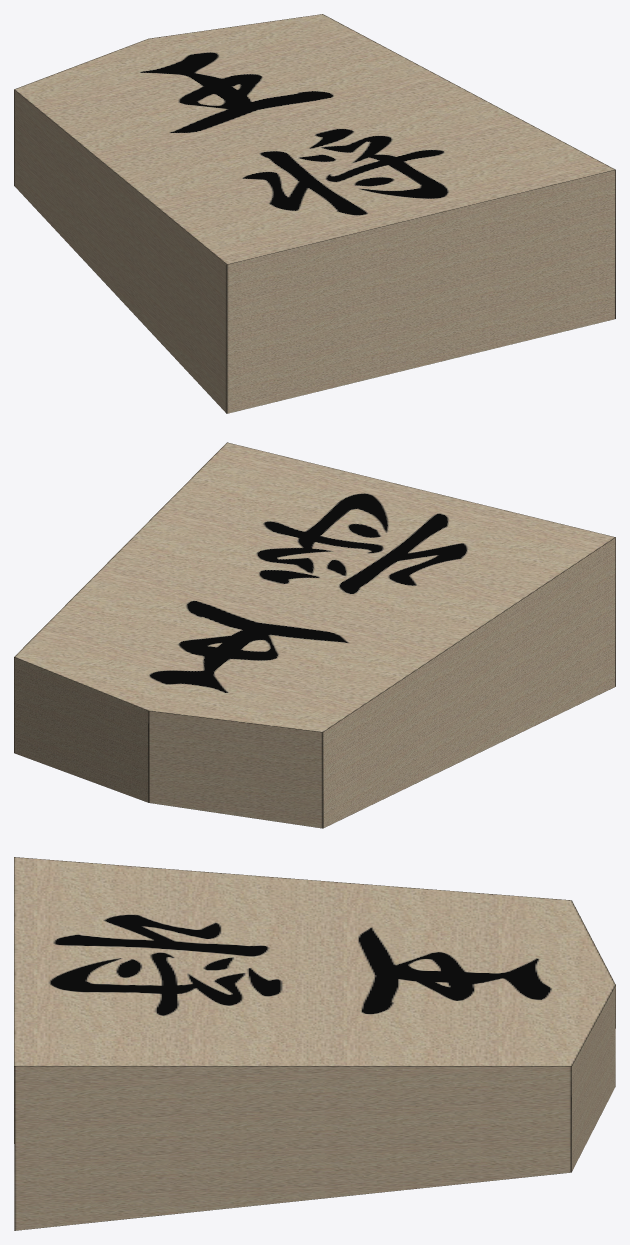
The model's file is 01_Osho.fbx.
The picture shows the model from 3 angles, top to bottom: view 1: azimuth 30°, elevation 25°; view 2: azimuth 150°, elevation 25°; view 3: azimuth 270°, elevation 25°; orthographic projection. The views are drawn at different scales.
Visible parts, largest first — view 1: 01_Gyokusho; view 2: 01_Gyokusho; view 3: 01_Gyokusho.
Part boxes in pixels (bbox=[...]): 01_Gyokusho: bbox=[14, 14, 615, 413]; 01_Gyokusho: bbox=[14, 442, 615, 828]; 01_Gyokusho: bbox=[14, 857, 615, 1230].
Bounding box in the file's own units: 0.72 × 0.8753 × 0.2642.
1 material, 1 textured.
